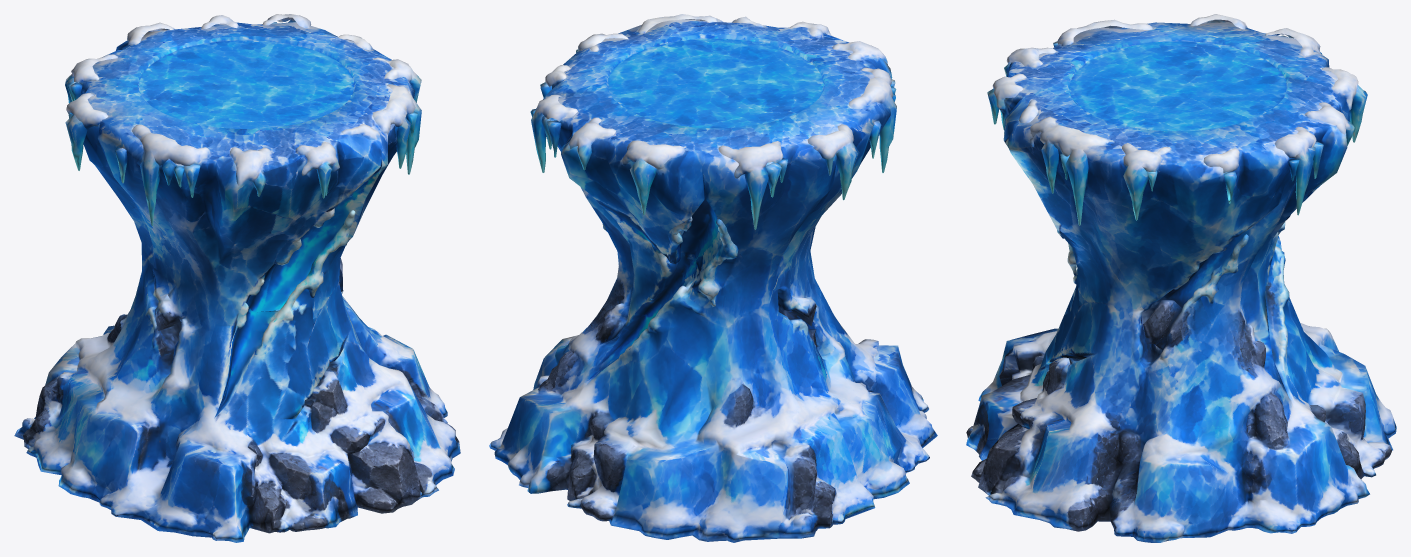
Rendered from ice_pedestal_3d_model.fbx.
3 renders of one model, left to right at view 1: azimuth 30°, elevation 25°; view 2: azimuth 150°, elevation 25°; view 3: azimuth 270°, elevation 25°, orthographic.
Visible parts, largest first — view 1: tripo_1e834537_93af_48ee_b3ec_dacfd2a7b823; view 2: tripo_1e834537_93af_48ee_b3ec_dacfd2a7b823; view 3: tripo_1e834537_93af_48ee_b3ec_dacfd2a7b823.
Boxes of the visible parts, <box> form: tripo_1e834537_93af_48ee_b3ec_dacfd2a7b823: <box>14,14,460,542</box>; tripo_1e834537_93af_48ee_b3ec_dacfd2a7b823: <box>489,14,937,542</box>; tripo_1e834537_93af_48ee_b3ec_dacfd2a7b823: <box>966,14,1396,542</box>.
Size of the model in its own units: 0.9995 by 0.9536 by 0.9927.
